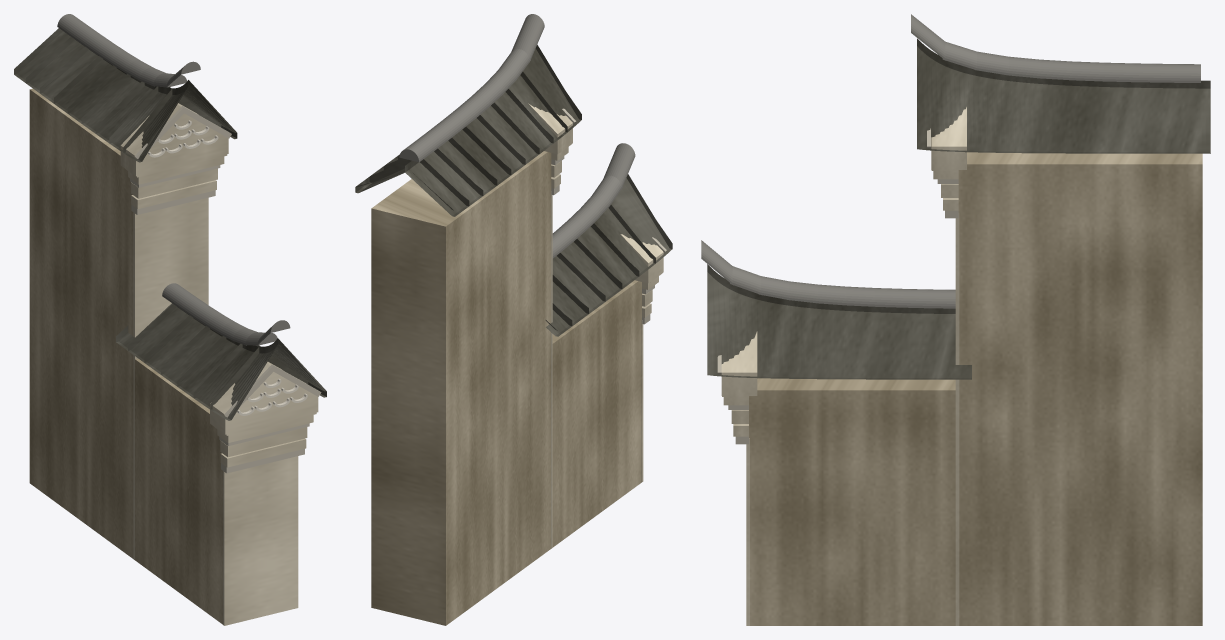
File: cai-residence-stepped-tiled-wall-near.glb
3 views of the same model, side by side, from view 1: azimuth 30°, elevation 25°; view 2: azimuth 150°, elevation 25°; view 3: azimuth 270°, elevation 25° (orthographic). The views are drawn at different scales.
Parts seen in each view (by area): view 1: 高桥蔡宅阶梯封火山墙的两级瓦头与三角灰饰; view 2: 高桥蔡宅阶梯封火山墙的两级瓦头与三角灰饰; view 3: 高桥蔡宅阶梯封火山墙的两级瓦头与三角灰饰.
Boxes of the visible parts, x1=… form: 高桥蔡宅阶梯封火山墙的两级瓦头与三角灰饰: x1=14, y1=14, x2=326, y2=625; 高桥蔡宅阶梯封火山墙的两级瓦头与三角灰饰: x1=355, y1=14, x2=672, y2=625; 高桥蔡宅阶梯封火山墙的两级瓦头与三角灰饰: x1=701, y1=14, x2=1210, y2=625.
Bounding box in the file's own units: 0.5 × 2.45 × 1.92.
Materials: 6 (3 with a texture image).
